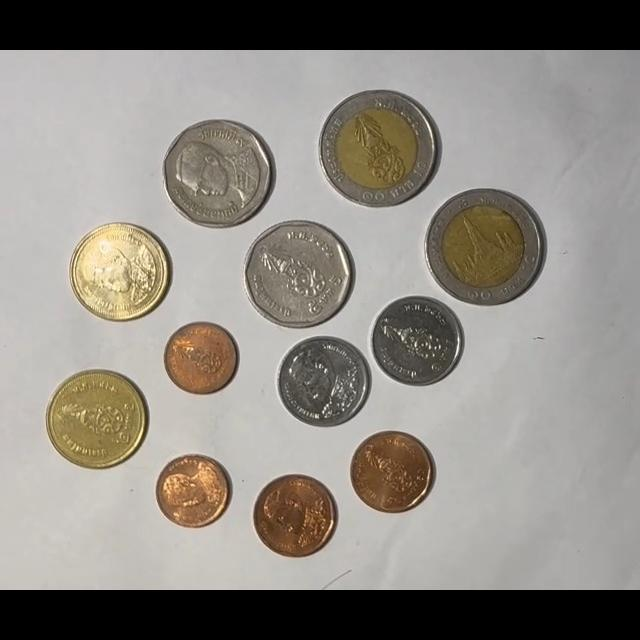1-baht: (371, 295, 464, 387), (276, 335, 369, 427)
10-baht: (319, 90, 440, 209), (425, 189, 544, 306)
2-baht: (47, 369, 148, 469), (69, 223, 168, 323)
25-satang: (155, 454, 233, 529), (164, 321, 238, 394)
5-baht: (162, 120, 274, 230), (243, 219, 354, 329)
50-satang: (252, 474, 337, 558), (350, 431, 434, 514)
